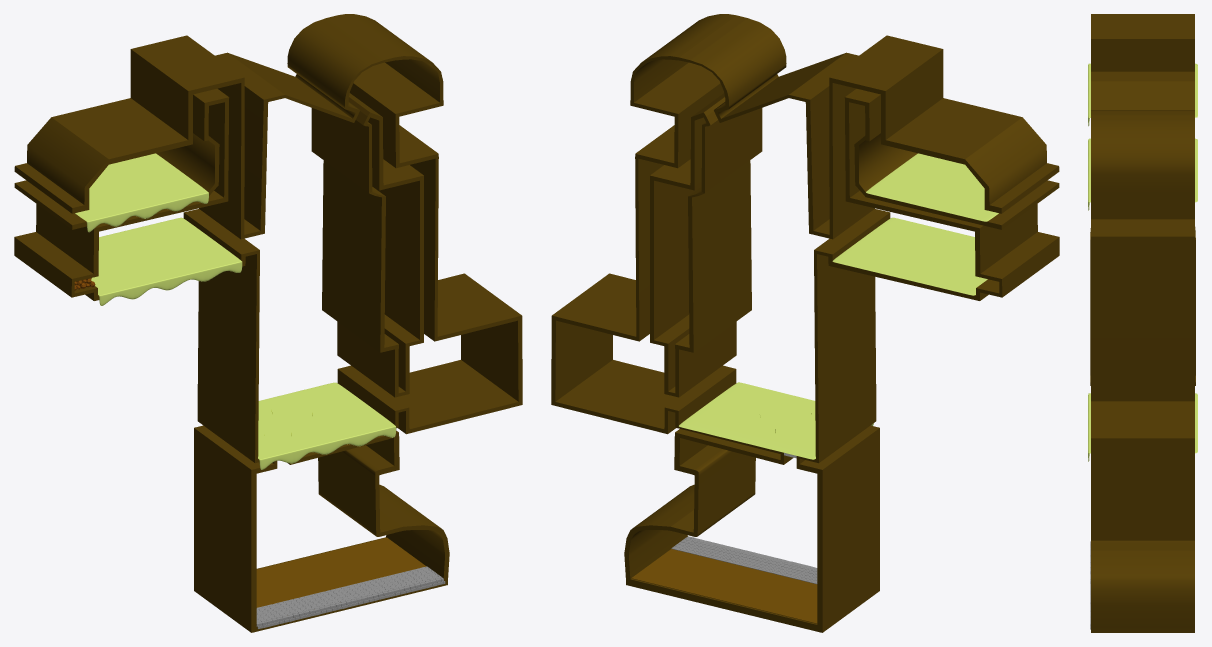
The model's file is Escenario.fbx.
The picture shows the model from 3 angles, left to right: view 1: azimuth 30°, elevation 25°; view 2: azimuth 150°, elevation 25°; view 3: azimuth 270°, elevation 25°; orthographic projection. The views are drawn at different scales.
Visible parts, largest first — view 1: Escenario, Cube.006, Cube.003, Cube.008, Cube.005, Cube.022, Cube.007; view 2: Escenario, Cube.006, Cube.008, Cube.003, Cube.005; view 3: Escenario, Cube.006, Cube.003, Cube.005.
Part boxes in pixels (x1,y1,x2,y2): Escenario: (14,14,522,632); Cube.006: (91,217,242,305); Cube.003: (258,382,396,469); Cube.008: (256,537,426,607); Cube.005: (75,153,208,232); Cube.022: (256,578,445,628); Cube.007: (256,575,442,622); Escenario: (551,14,1059,632); Cube.006: (832,217,987,295); Cube.008: (631,549,817,623); Cube.003: (679,382,873,459); Cube.005: (866,153,998,221); Escenario: (1090,14,1195,632); Cube.006: (1088,138,1197,210); Cube.003: (1088,393,1197,461); Cube.005: (1088,63,1197,126).
Bounding box in the file's own units: 1902 × 2246 × 444.
